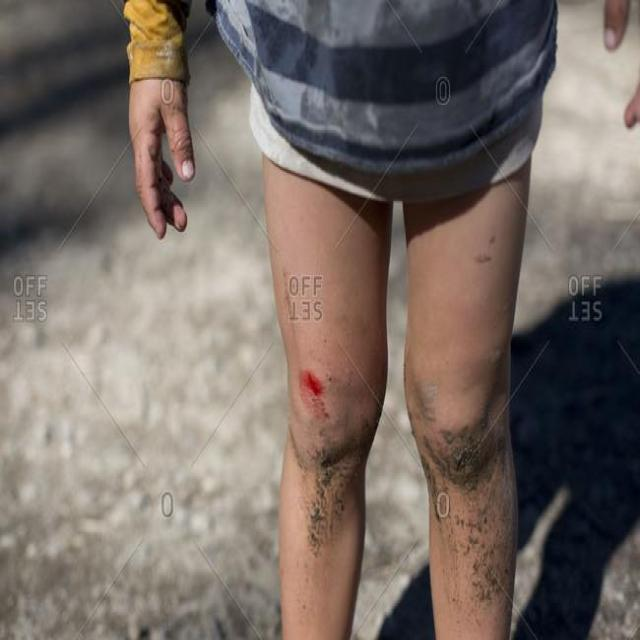Cut: (286, 358, 329, 418)
